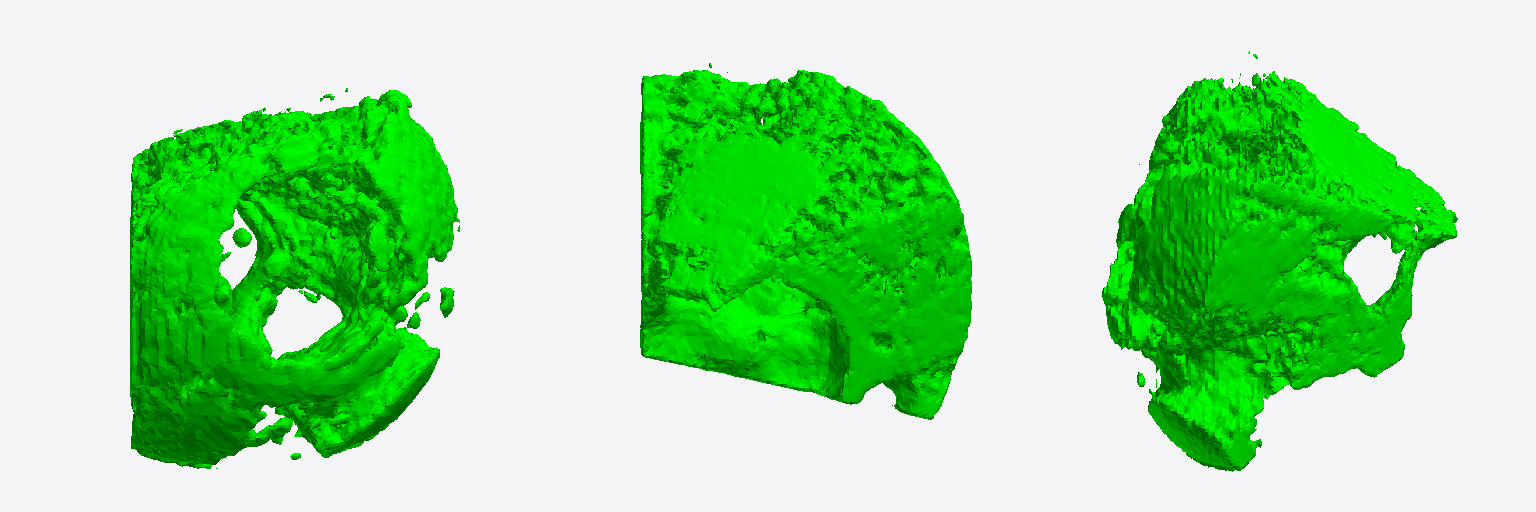
File: B939XXXX-1_base_32.obj
3 views of the same model, side by side, from view 1: azimuth 30°, elevation 25°; view 2: azimuth 150°, elevation 25°; view 3: azimuth 270°, elevation 25° (orthographic).
Visible parts, largest first — view 1: 32_base; view 2: 32_base; view 3: 32_base.
Part boxes in pixels (bbox=[...]): 32_base: bbox=[130, 88, 459, 468]; 32_base: bbox=[640, 63, 971, 419]; 32_base: bbox=[1102, 51, 1457, 471].
Size of the model in its own units: 219 by 216 by 205.